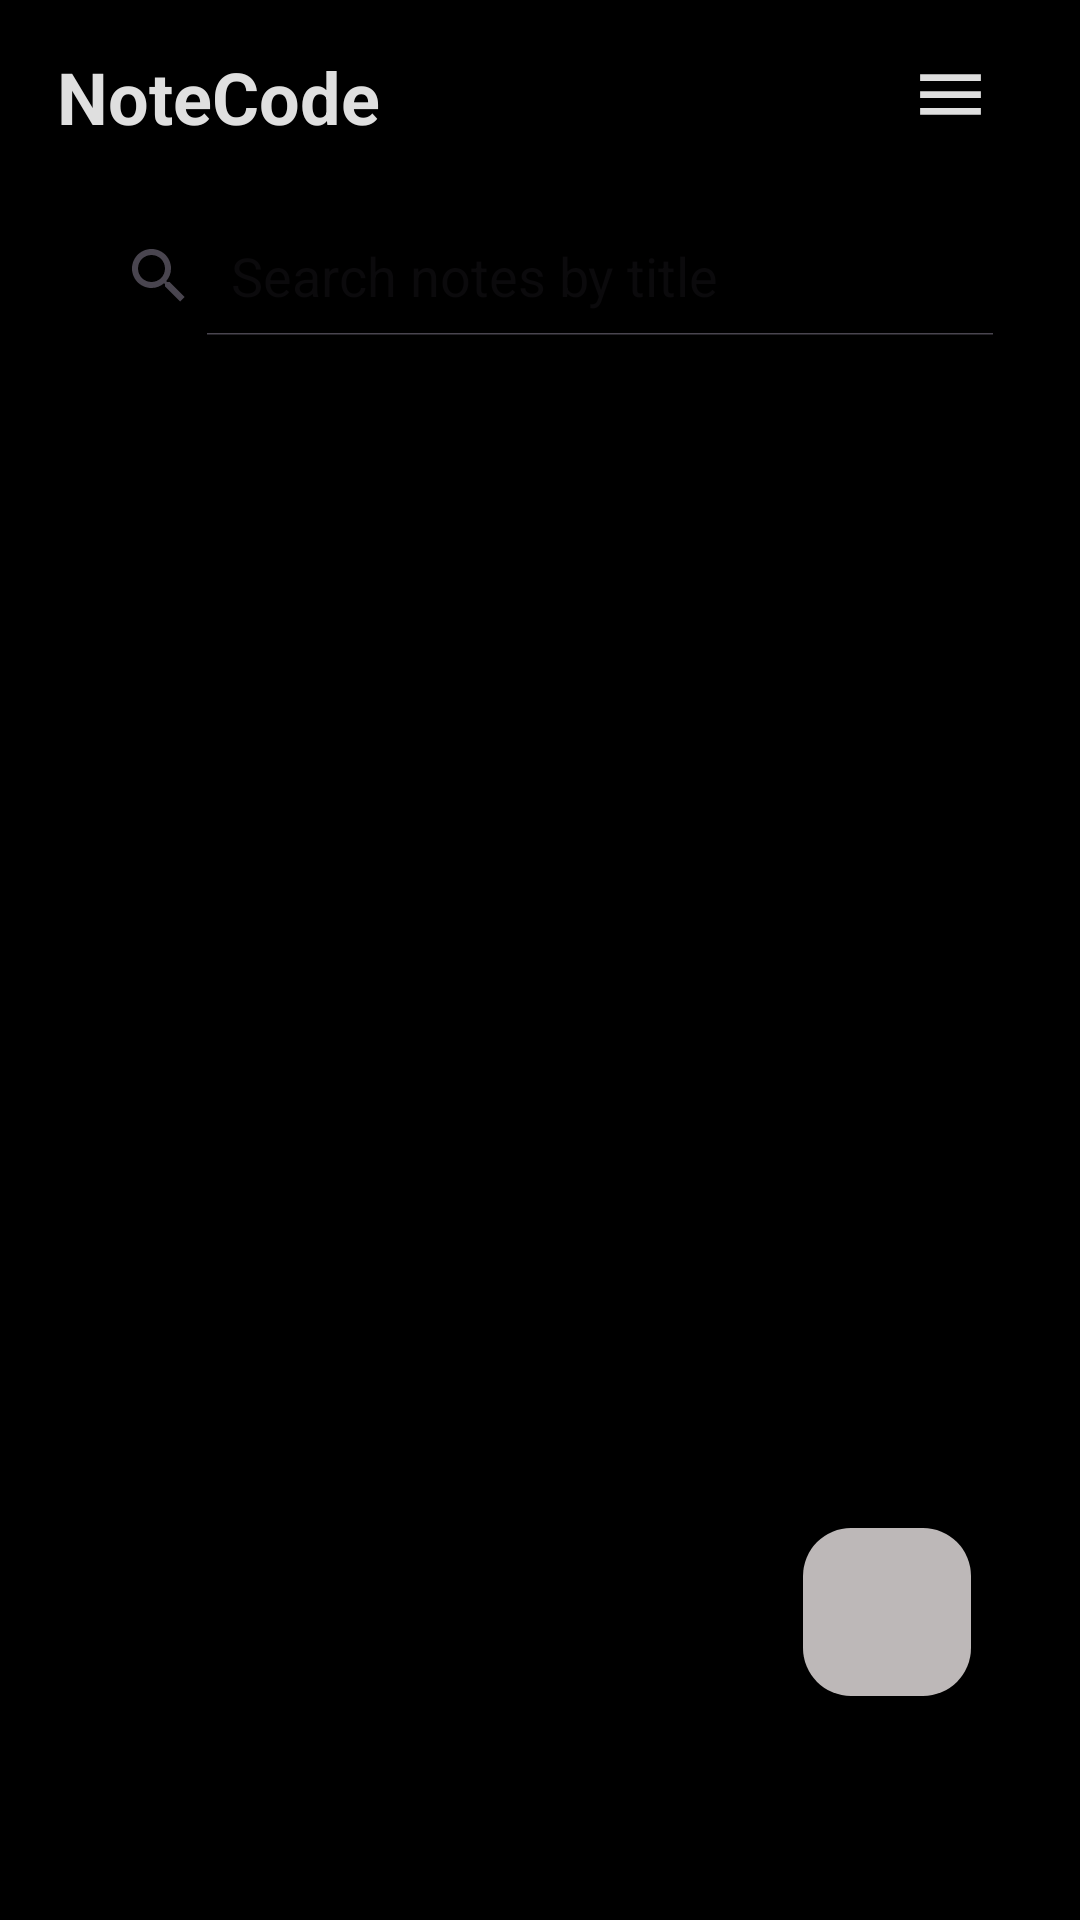

Icons on this 1080 × 1920 Android screen, each with its box as (x1, y1, x2, y2):
menu: (920, 74, 981, 115)
